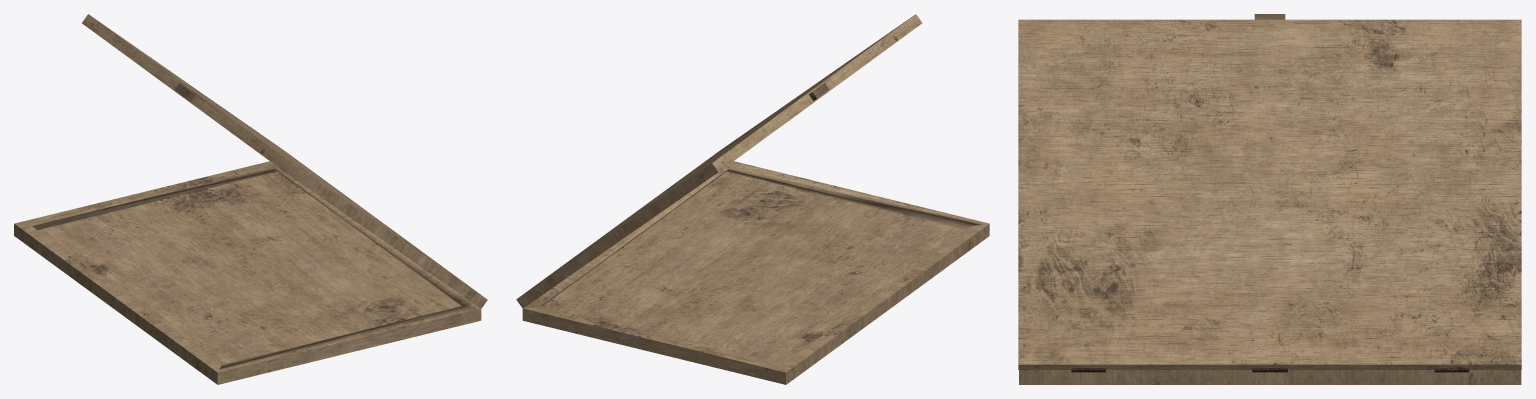
Rendered from libro_pressa.fbx.
The picture shows the model from 3 angles, left to right: view 1: azimuth 30°, elevation 25°; view 2: azimuth 150°, elevation 25°; view 3: azimuth 270°, elevation 25°; orthographic projection. The views are drawn at different scales.
Visible parts, largest first — view 1: Chest_Base, Chest_Lid; view 2: Chest_Base, Chest_Lid; view 3: Chest_Lid, Chest_Base.
Part boxes in pixels (x1,y1,x2,y2): Chest_Base: [14, 161, 481, 384]; Chest_Lid: [82, 14, 487, 308]; Chest_Base: [522, 161, 989, 384]; Chest_Lid: [516, 14, 922, 308]; Chest_Lid: [1018, 14, 1521, 369]; Chest_Base: [1019, 368, 1521, 384].
Bounding box in the file's own units: 44.28 × 32.31 × 57.97.
